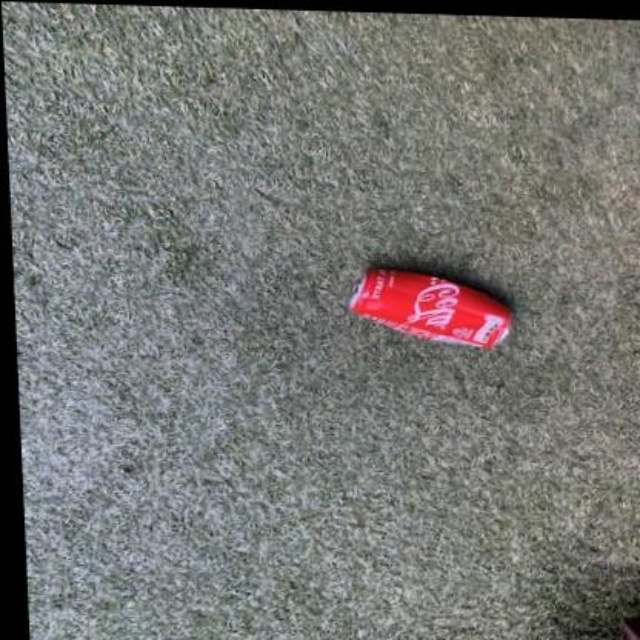trash: (348, 269, 511, 346)
